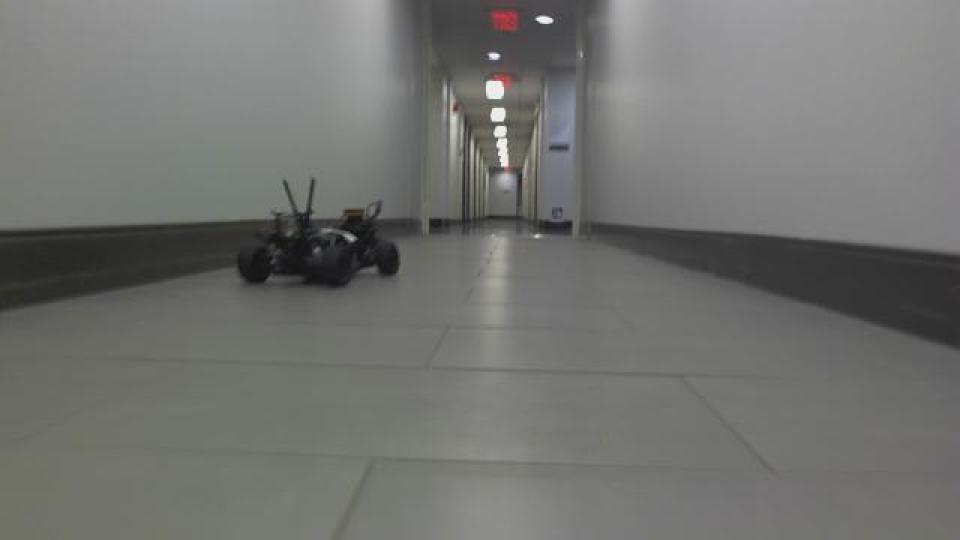car: (232, 174, 402, 291)
